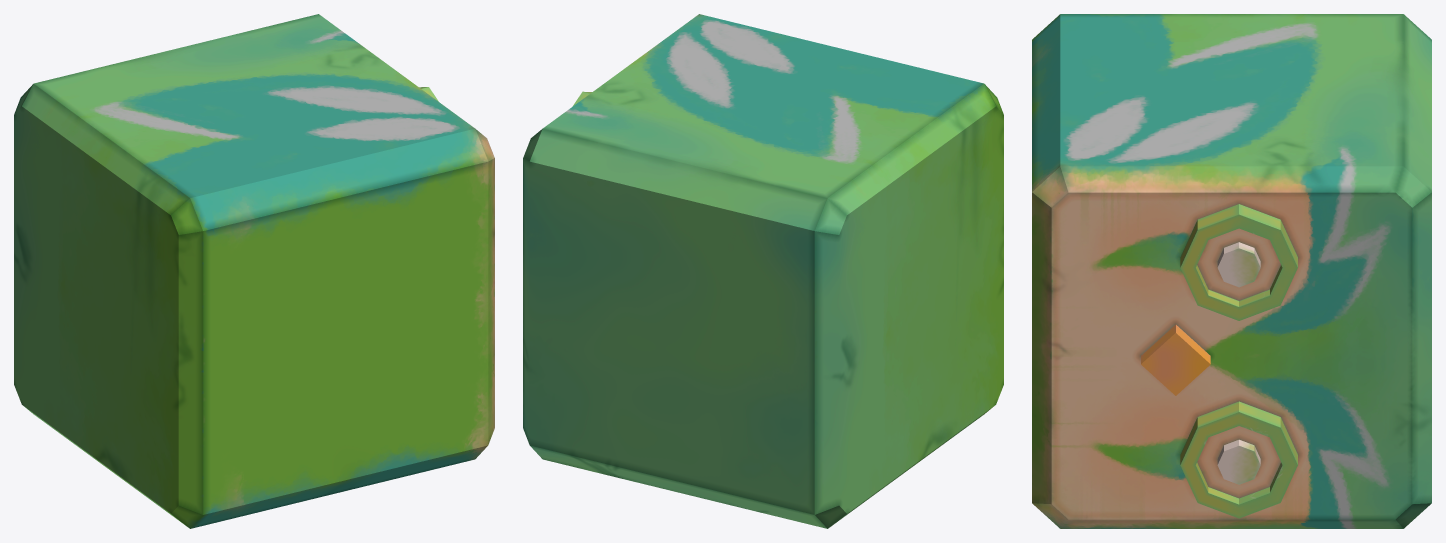
The model's file is bird_totem_head.fbx.
3 renders of one model, left to right at view 1: azimuth 30°, elevation 25°; view 2: azimuth 150°, elevation 25°; view 3: azimuth 270°, elevation 25°, orthographic. The views are drawn at different scales.
Parts seen in each view (by area): view 1: Cube.004; view 2: Cube.004; view 3: Cube.004.
Part boxes in pixels (left/top/right/bottom): Cube.004: left=14, top=14, right=494, bottom=528; Cube.004: left=523, top=14, right=1003, bottom=528; Cube.004: left=1032, top=14, right=1431, bottom=528.
Size of the model in its own units: 106 by 100 by 100.
3 materials, 3 textured.
